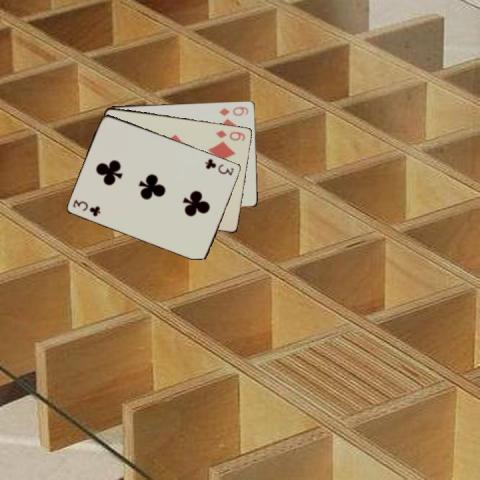3c: (202, 155, 235, 177), (70, 197, 102, 218)
6d: (213, 127, 247, 143), (216, 103, 250, 117)
